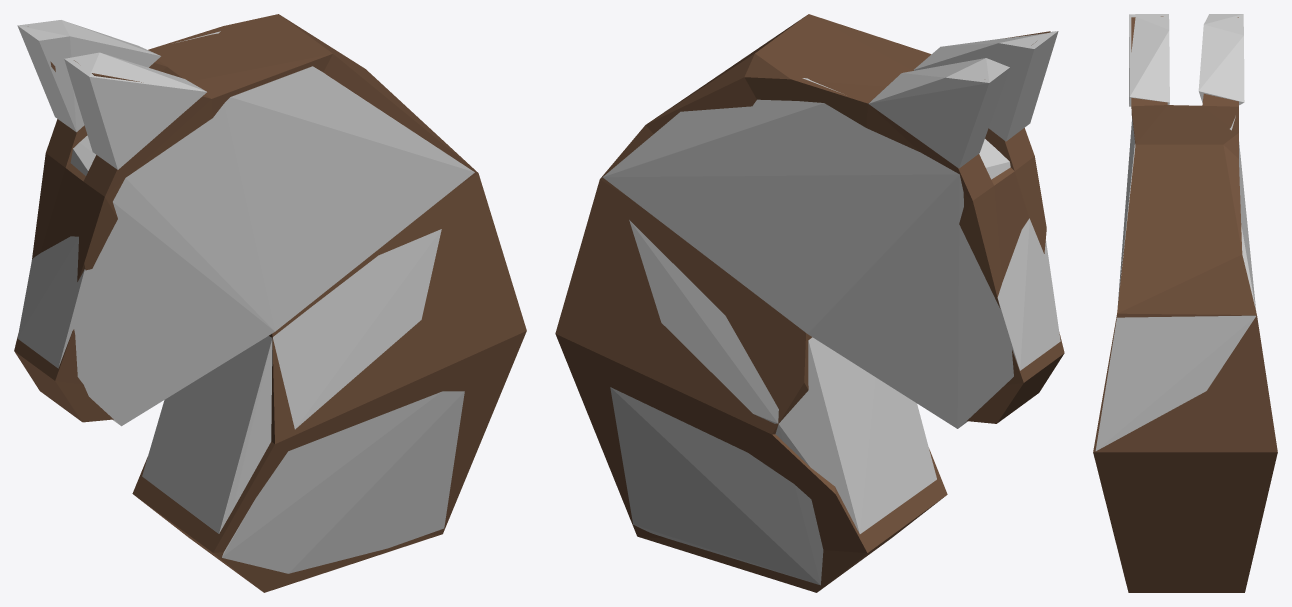
Rendered from SM_Bld_Roof_Cap_Horse_01.fbx.
3 renders of one model, left to right at view 1: azimuth 30°, elevation 25°; view 2: azimuth 150°, elevation 25°; view 3: azimuth 270°, elevation 25°, orthographic. The views are drawn at different scales.
Visible parts, largest first — view 1: SM_Bld_Roof_Cap_Horse_01_ConvexHulls, SM_Bld_Roof_Cap_Horse_01; view 2: SM_Bld_Roof_Cap_Horse_01_ConvexHulls, SM_Bld_Roof_Cap_Horse_01; view 3: SM_Bld_Roof_Cap_Horse_01, SM_Bld_Roof_Cap_Horse_01_ConvexHulls.
Part boxes in pixels (x1,y1,x2,y2): SM_Bld_Roof_Cap_Horse_01_ConvexHulls: [17, 20, 474, 573]; SM_Bld_Roof_Cap_Horse_01: [14, 14, 526, 592]; SM_Bld_Roof_Cap_Horse_01_ConvexHulls: [602, 31, 1060, 585]; SM_Bld_Roof_Cap_Horse_01: [555, 14, 1064, 592]; SM_Bld_Roof_Cap_Horse_01: [1093, 16, 1277, 592]; SM_Bld_Roof_Cap_Horse_01_ConvexHulls: [1095, 14, 1255, 450].
Bounding box in the file's own units: 105 × 47.78 × 128.
Materials: 2 (1 with a texture image).
